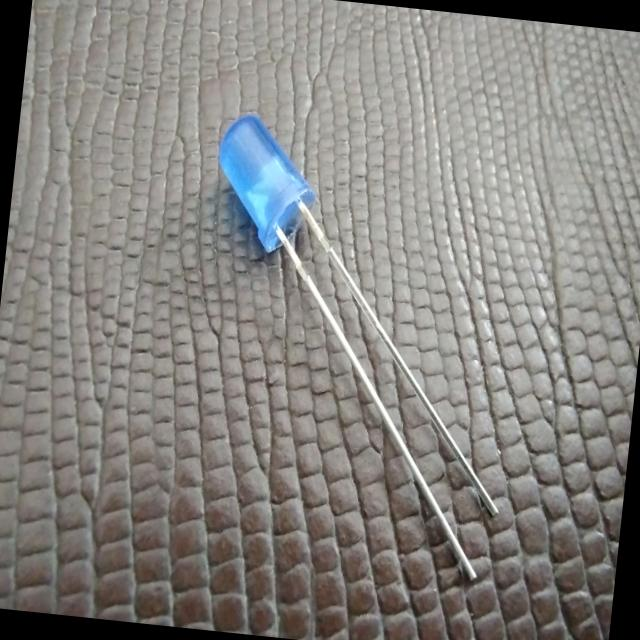blue_led: (207, 109, 324, 258)
